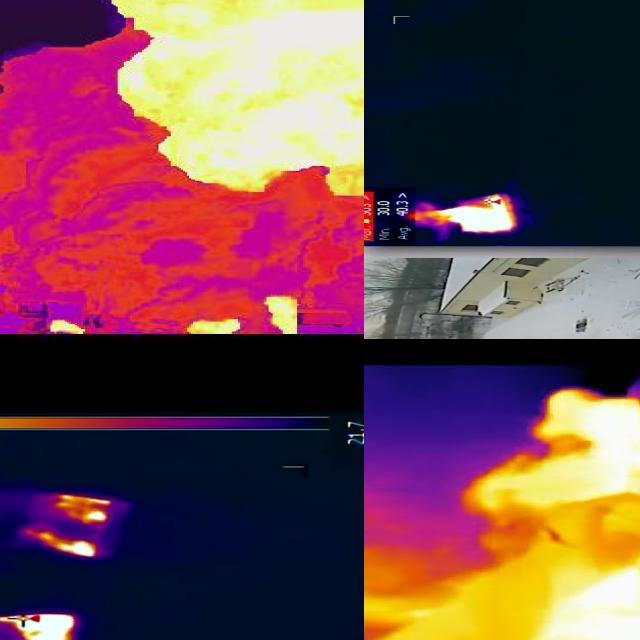fire: (115, 1, 365, 198), (472, 392, 640, 640), (419, 193, 522, 233), (1, 611, 77, 640), (53, 494, 118, 526), (31, 532, 101, 557), (186, 312, 245, 338), (263, 293, 299, 334), (48, 312, 89, 333)
